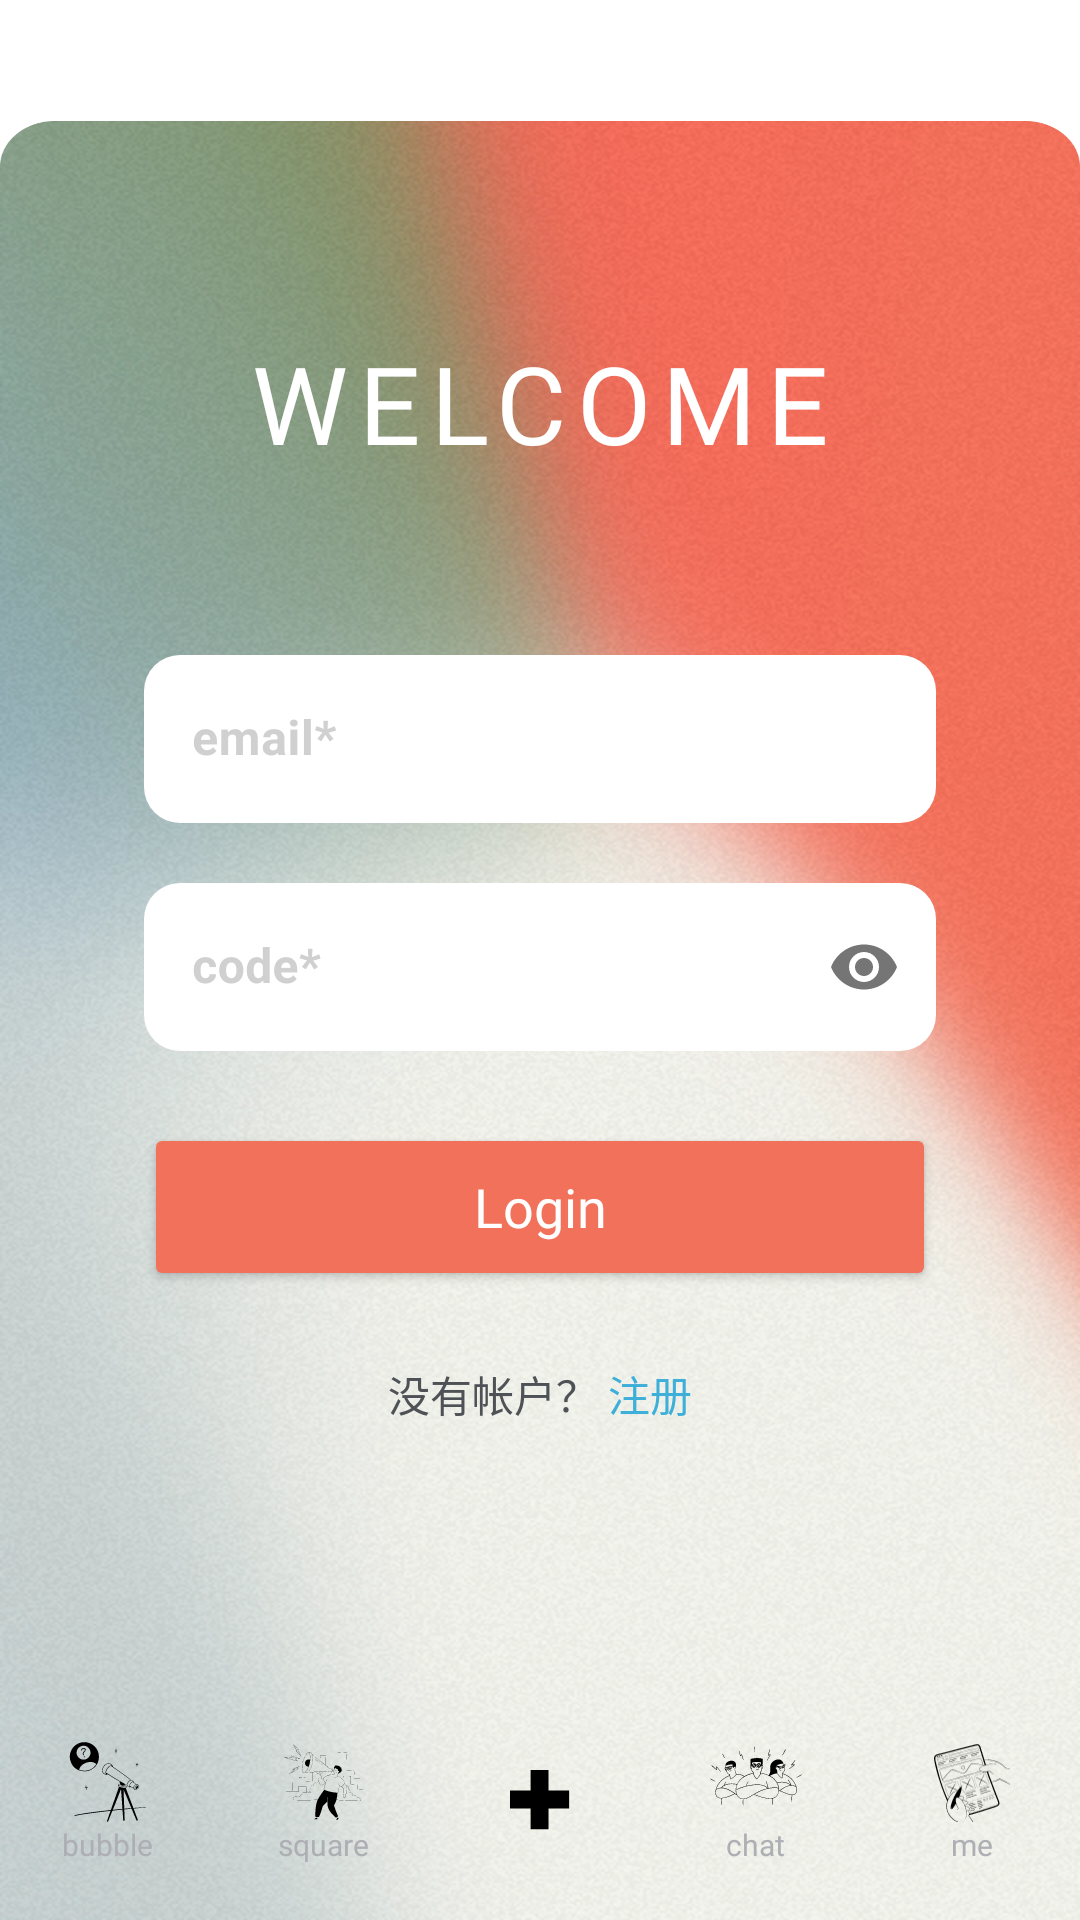

Locate icon controls on the screen. Image size 1080x1920, boxes as {"left": x1, "top": y1, "right": x2, "bottom": y2}.
add: {"left": 510, "top": 1770, "right": 570, "bottom": 1830}
